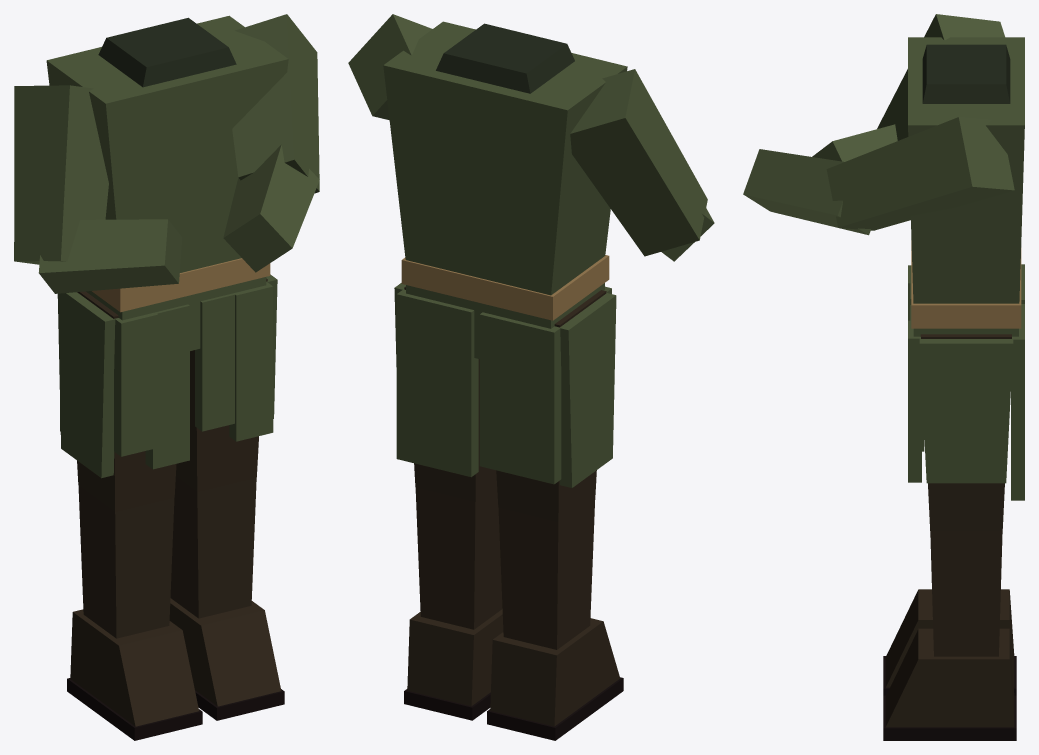
File: gear_body_scav_coat.glb
The picture shows the model from 3 angles, left to right: view 1: azimuth 30°, elevation 25°; view 2: azimuth 150°, elevation 25°; view 3: azimuth 270°, elevation 25°; orthographic projection. The views are drawn at different scales.
Parts seen in each view (by area): view 1: torso, leg_r_lower, coat_flap_r, leg_l_lower, arm_r, coat_flap_l, arm_l, arm_r_lower, arm_l_lower, leg_l, leg_r; view 2: torso, leg_r_lower, coat_flap_r, leg_l_lower, arm_r, coat_flap_l, leg_r, arm_l, leg_l; view 3: torso, leg_l_lower, coat_flap_l, arm_l, arm_l_lower, leg_l, leg_r_lower, arm_r, arm_r_lower.
Part boxes in pixels (x1,y1,x2,y2): torso: (46,15,288,350); leg_r_lower: (67,485,202,740); coat_flap_r: (57,292,189,478); leg_l_lower: (169,476,284,720); arm_r: (14,85,108,264); coat_flap_l: (195,274,277,441); arm_l: (232,14,319,193); arm_r_lower: (38,219,182,293); arm_l_lower: (223,144,319,272); leg_l: (176,278,267,491); leg_r: (77,291,176,511); torso: (383,21,627,358); leg_r_lower: (487,495,623,740); coat_flap_r: (479,286,616,487); leg_l_lower: (404,486,503,720); arm_r: (570,69,707,256); coat_flap_l: (394,283,478,477); leg_r: (496,290,606,521); arm_l: (348,14,432,120); leg_l: (404,286,496,501); torso: (908,37,1024,336); leg_l_lower: (883,531,1016,740); coat_flap_l: (908,304,1024,500); arm_l: (826,117,1014,230); arm_l_lower: (743,149,870,235); leg_l: (920,334,1011,531); leg_r_lower: (883,589,1016,695); arm_r: (877,14,1004,140); arm_r_lower: (812,124,897,161).
Bounding box in the file's own units: 0.7929 × 1.52 × 0.6024.
